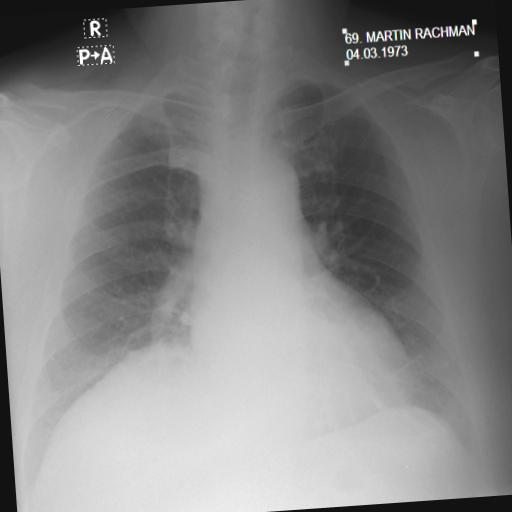kardiomegali: (0, 18, 495, 511)
